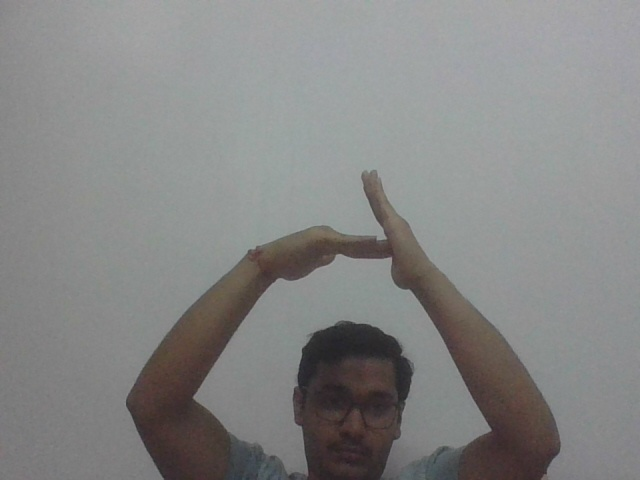Z: (249, 166, 436, 296)
